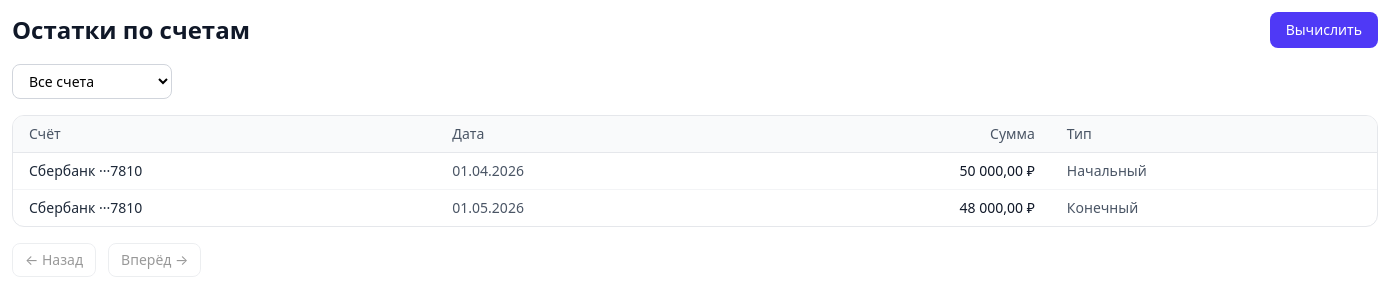
Balances page › disables button while pending
Step 1. Click the button "Вычислить" → (1324, 30), box left=1270, top=12, right=1378, bottom=48
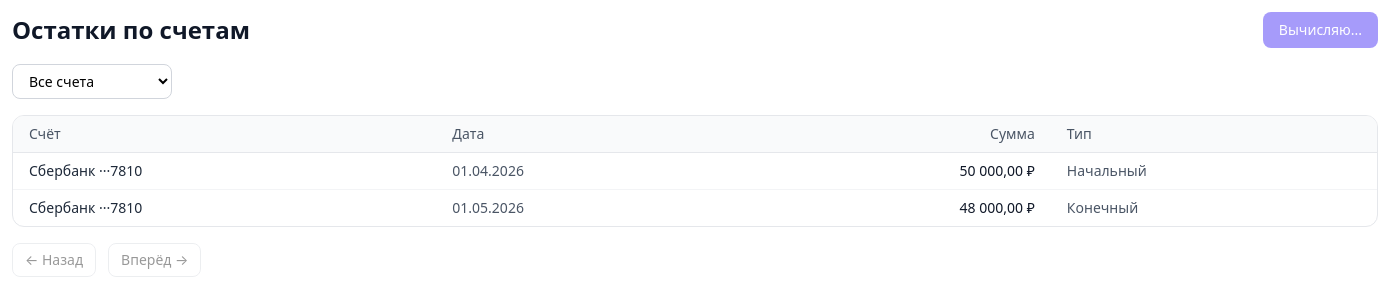
Check: the button "Вычисляю..." is disabled, box left=1263, top=12, right=1378, bottom=48
